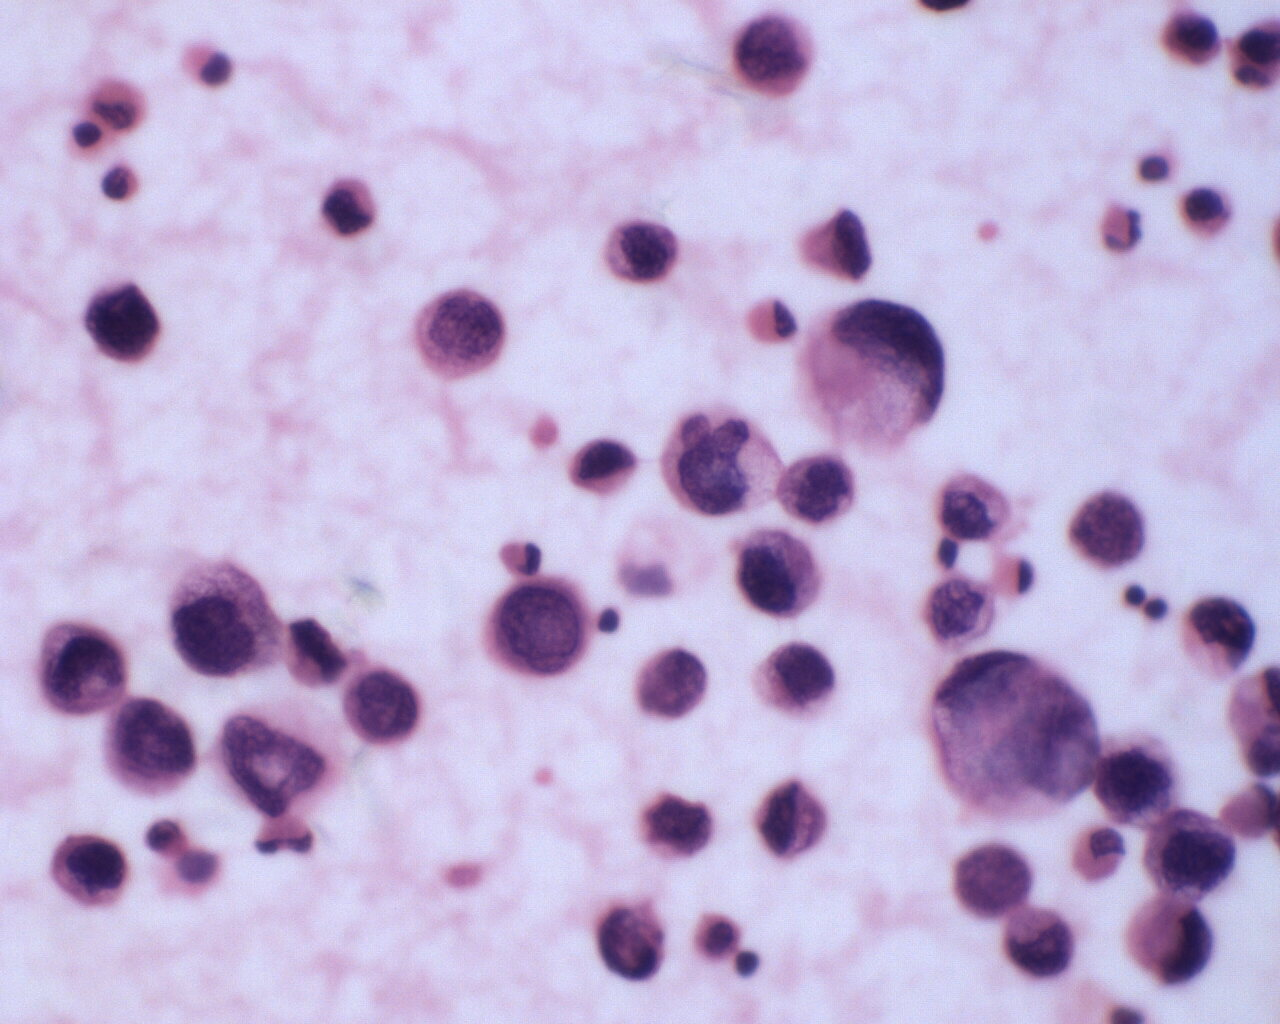ab: (800, 297, 949, 453), (156, 558, 283, 686), (485, 572, 594, 693), (98, 691, 197, 802), (727, 525, 827, 627), (1140, 800, 1241, 900), (411, 289, 513, 385), (32, 621, 134, 711), (746, 638, 841, 723), (48, 828, 135, 920), (1179, 589, 1267, 678), (342, 666, 428, 754), (998, 905, 1087, 991), (73, 280, 164, 363), (778, 447, 862, 530), (937, 469, 1019, 543), (604, 218, 677, 285)
